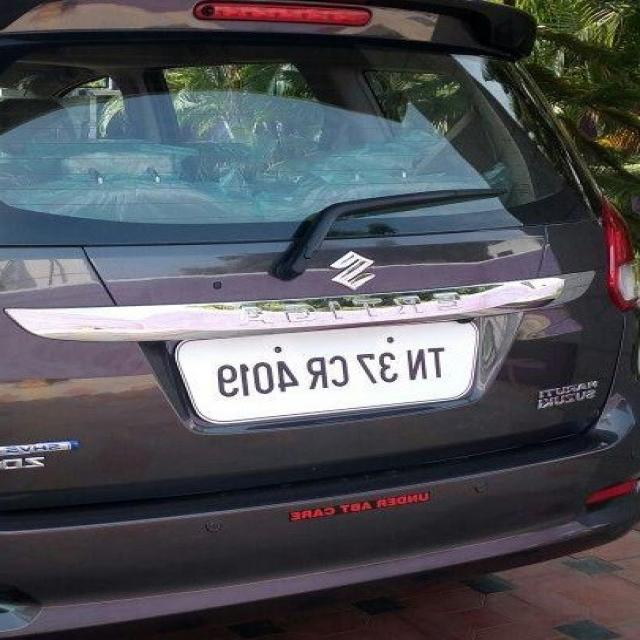license_plate: (162, 312, 484, 431)
